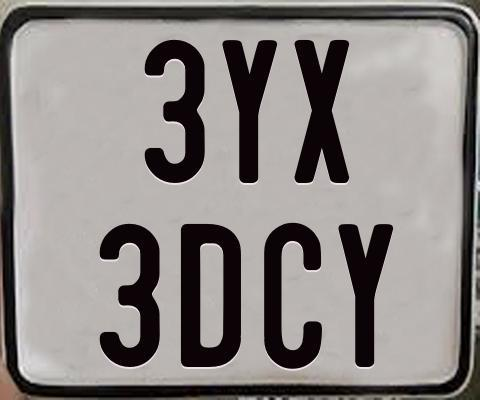3: (142, 38, 208, 187), (97, 224, 159, 368)
C: (261, 223, 324, 370)
D: (179, 224, 240, 371)
X: (294, 40, 355, 186)
Y: (219, 39, 278, 187), (337, 222, 392, 370)
